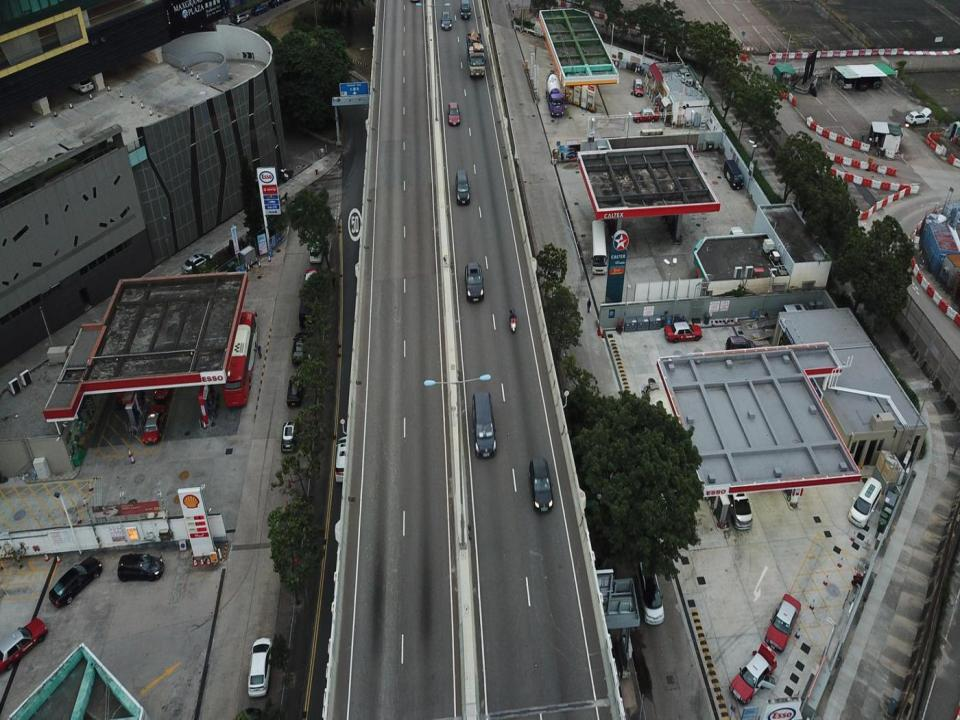bus: (221, 310, 260, 409), (590, 218, 607, 277)
car: (727, 642, 777, 706), (48, 556, 103, 610), (0, 617, 47, 670), (764, 591, 801, 651), (848, 477, 882, 530), (242, 634, 270, 695), (640, 555, 664, 626), (528, 456, 554, 513), (117, 553, 165, 581), (732, 474, 752, 532), (141, 403, 165, 446), (334, 436, 354, 485), (178, 249, 215, 275), (113, 369, 137, 409), (665, 320, 704, 344), (464, 262, 485, 304), (297, 296, 318, 333), (290, 329, 309, 366), (726, 337, 757, 358), (454, 167, 470, 207), (286, 372, 304, 407), (280, 418, 298, 452), (152, 367, 169, 402), (907, 104, 931, 127), (632, 106, 658, 123), (447, 99, 462, 127), (309, 233, 322, 264), (305, 266, 318, 292), (632, 76, 645, 100), (442, 8, 452, 32)
truck: (466, 29, 486, 82), (544, 70, 565, 119)
van: (471, 388, 498, 460), (723, 158, 744, 190), (461, 0, 471, 19)
